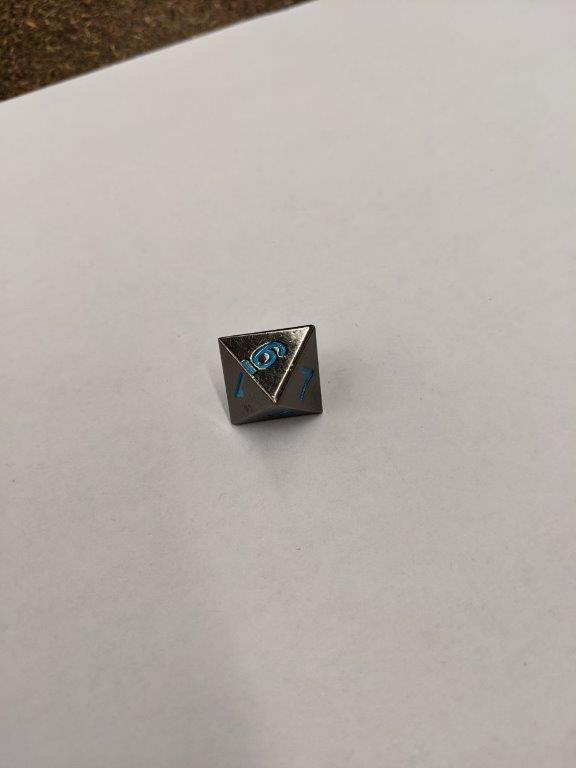d8-6: (216, 322, 327, 427)
